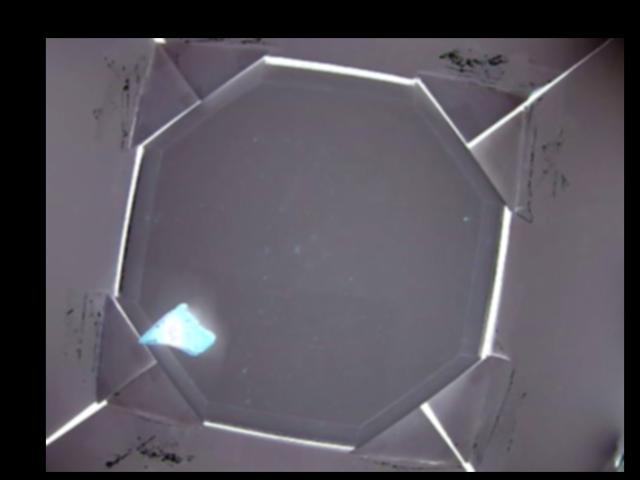Brisk: (137, 302, 216, 355)
